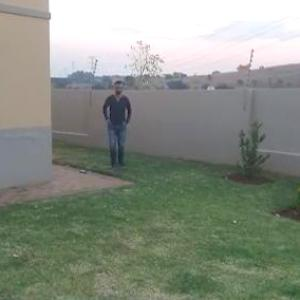follow: (100, 79, 133, 176)
